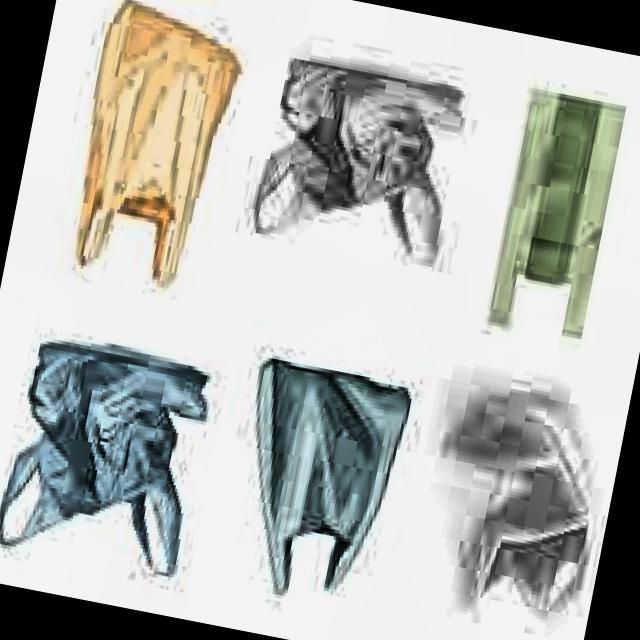plastic bag: (76, 5, 239, 287), (3, 349, 206, 574), (255, 62, 459, 265), (257, 360, 410, 593), (489, 101, 624, 337)
